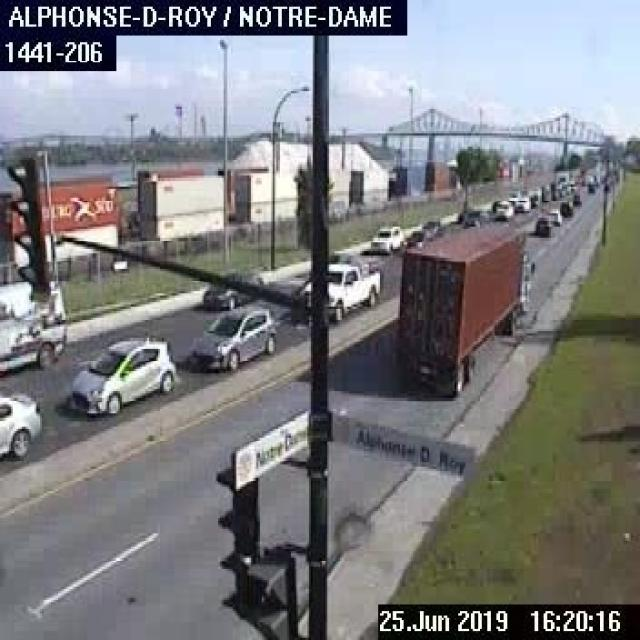vehicle: (395, 220, 535, 396), (67, 331, 178, 416), (0, 273, 67, 375), (289, 254, 383, 324), (186, 305, 276, 369), (0, 389, 44, 464), (199, 265, 268, 311), (367, 222, 405, 252), (402, 229, 431, 250), (493, 198, 513, 220), (464, 208, 487, 224), (512, 194, 530, 212), (546, 207, 562, 226), (421, 218, 440, 234), (533, 216, 550, 233), (557, 197, 570, 217), (528, 192, 540, 205), (571, 191, 580, 204)
